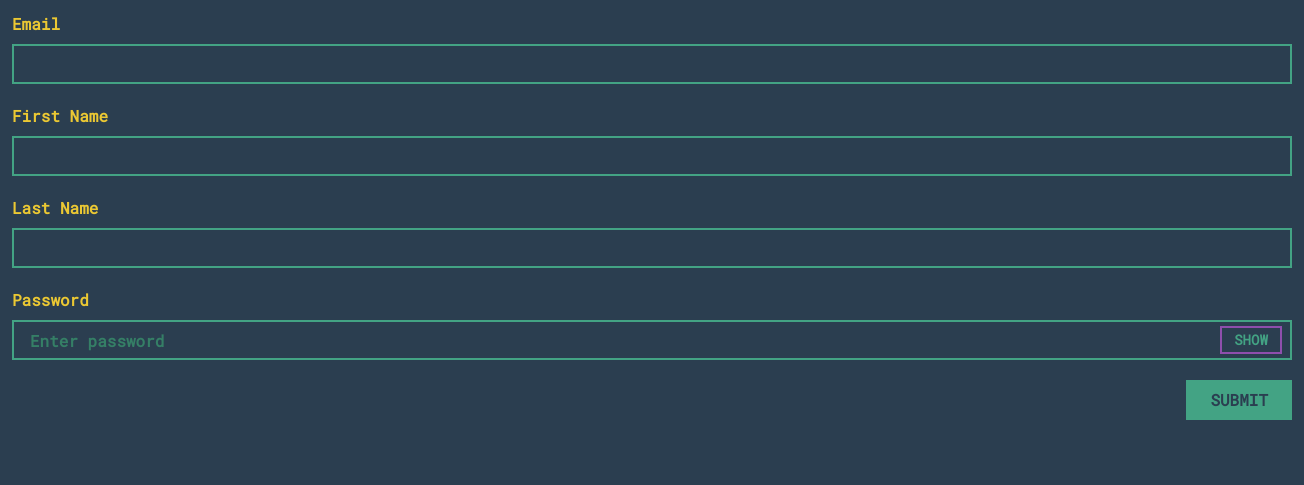
Test: RegisterForm - Field Errors › test first name validator with invalid name length
Type "ThisIsAReallyLongStringWithMoreThan25Chars" into the field with test id "first-name-field" at (652,156), box [12,136,1292,176]
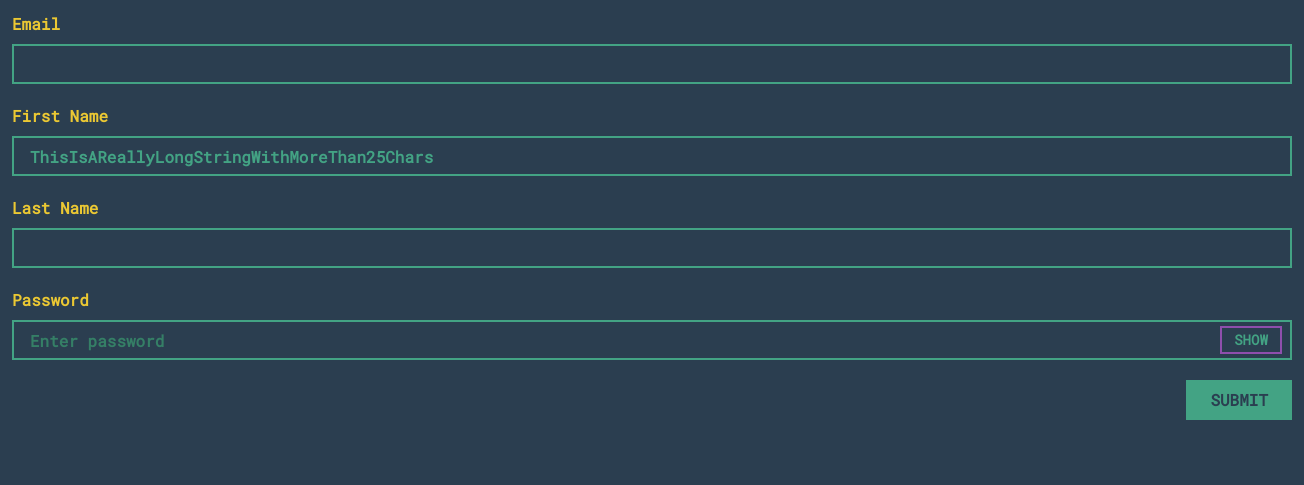
Press Tab
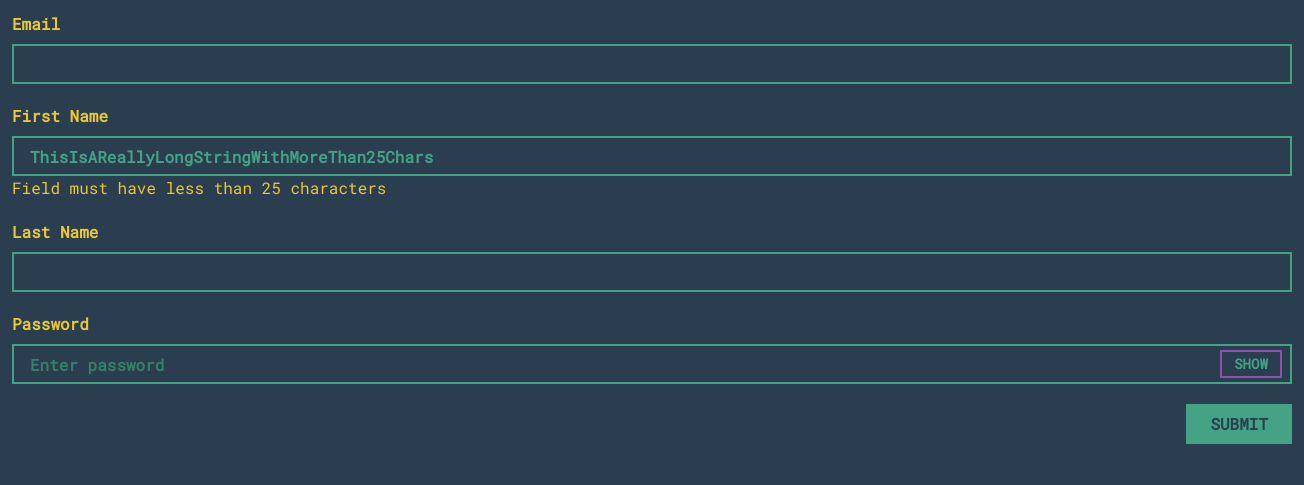
Type "ThisIsAReallyLongStringWithMoreThan25Chars" into the field with test id "last-name-field" at (652,272), box [12,252,1292,292]
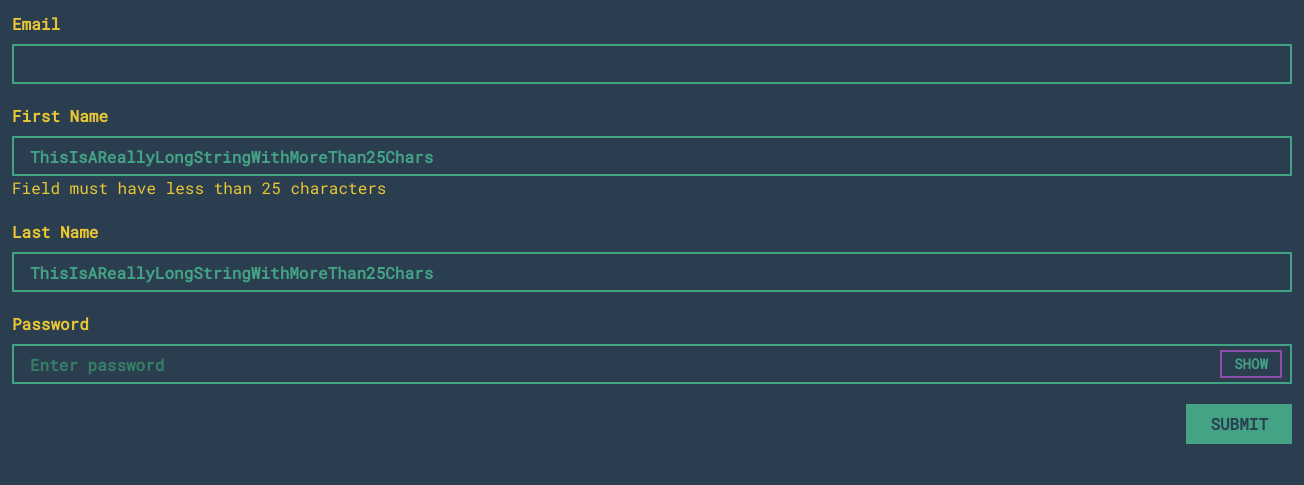
Press Tab
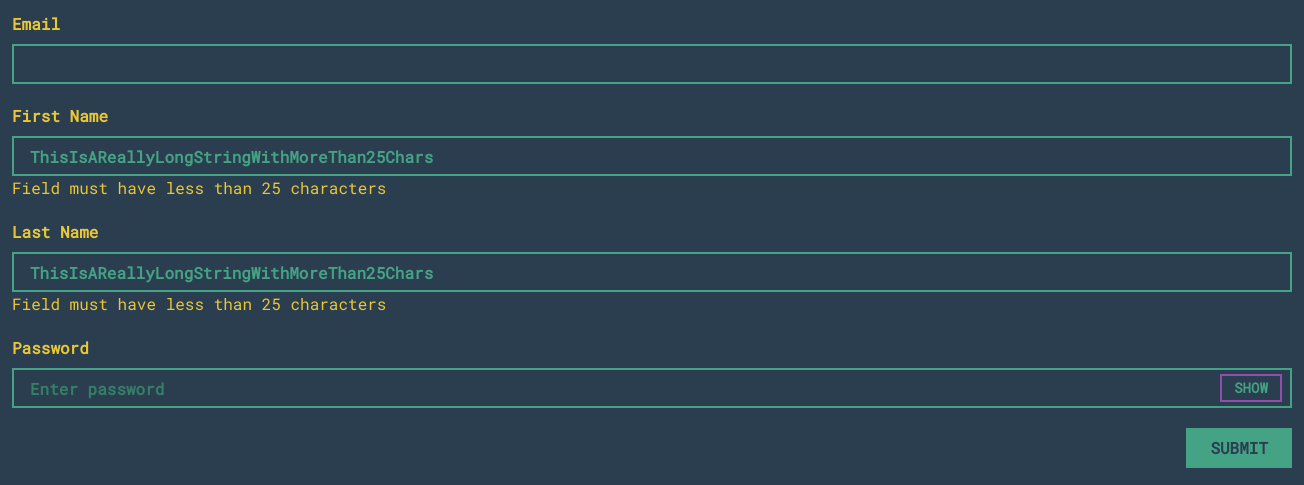
Check: the text with test id "first-name-error" reads "Field must have less than 25 characters", box [12,177,386,198]
Check: the text with test id "last-name-error" reads "Field must have less than 25 characters", box [12,293,386,314]
